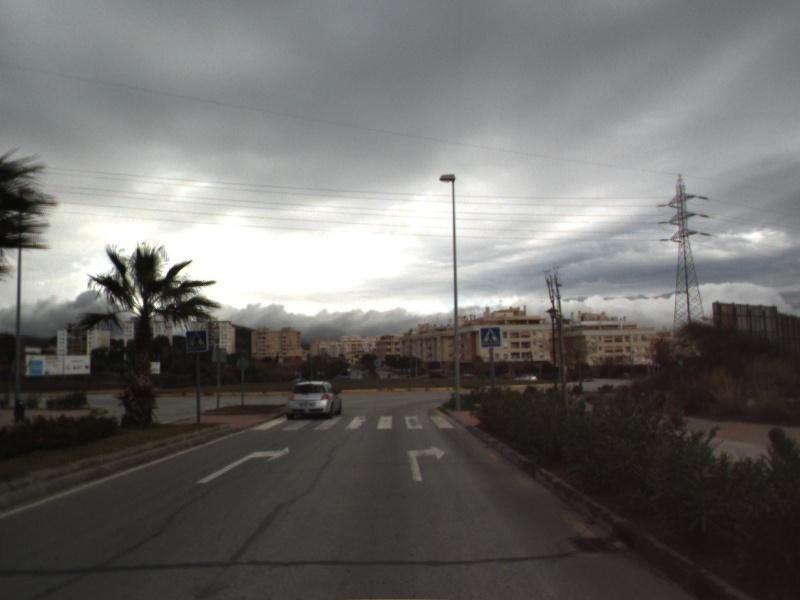RIGHT: (195, 445, 291, 485), (405, 444, 448, 483)
